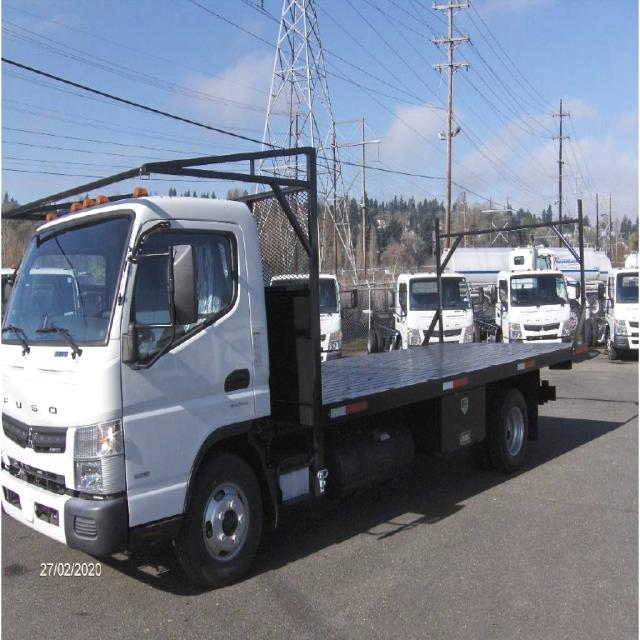truck: (1, 143, 557, 581)
